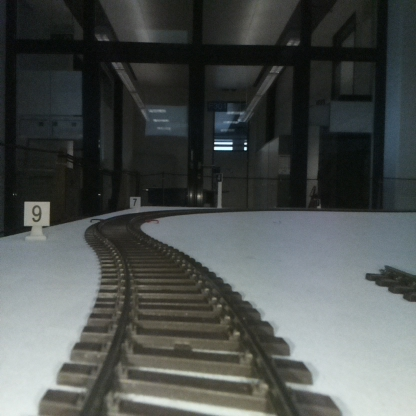black-info-4: (215, 173, 223, 208)
white-stop-7: (130, 196, 140, 212)
white-stop-9: (24, 201, 49, 242)
